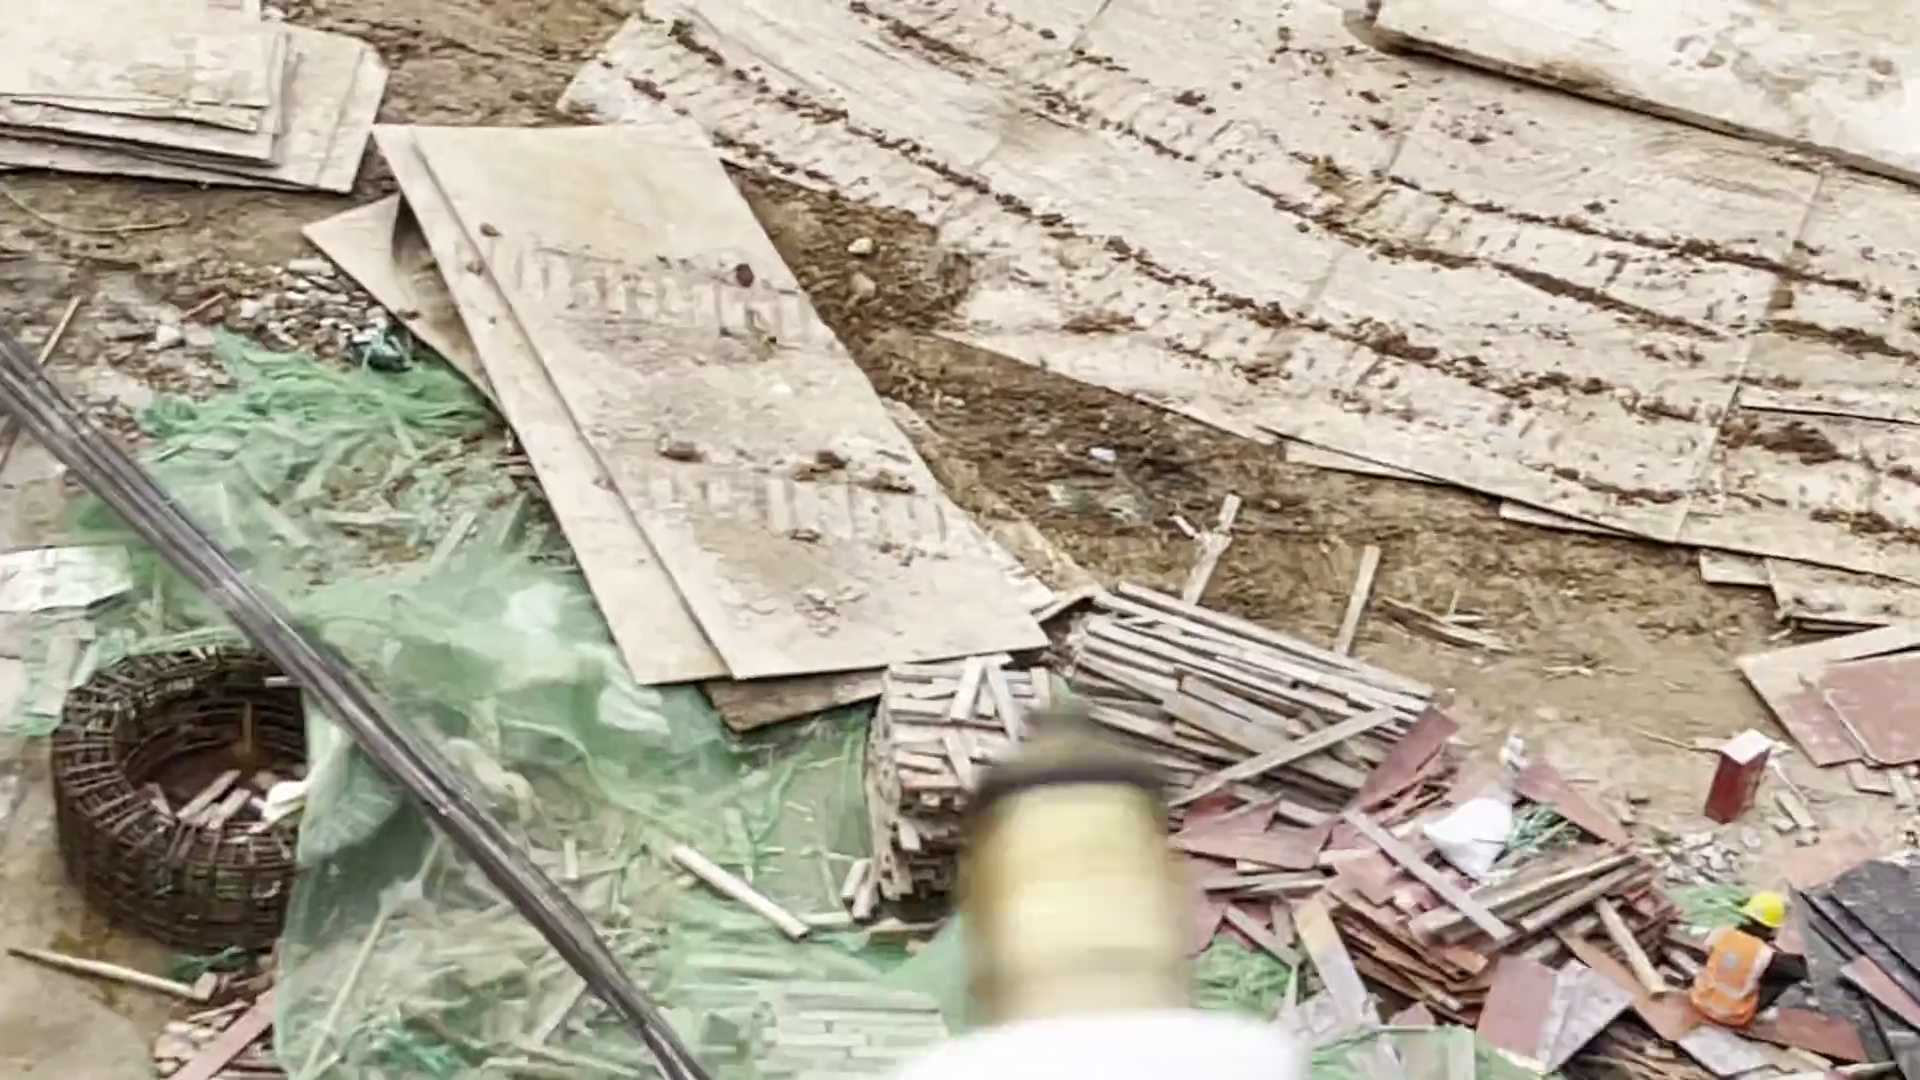helmet: (1740, 887, 1786, 929)
person: (1686, 886, 1806, 1038)
vest: (1688, 928, 1770, 1026)
